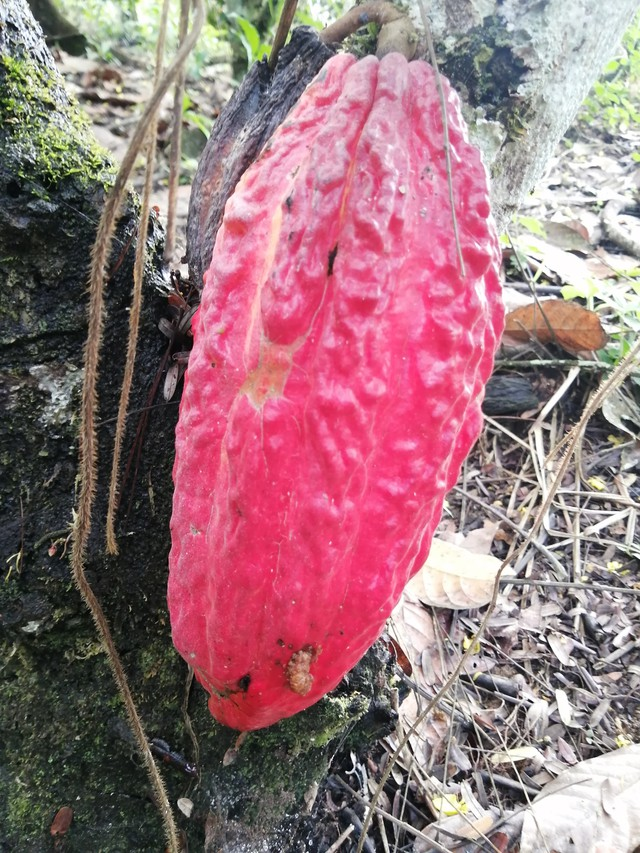carmenta foraseminis: (165, 43, 512, 737)
